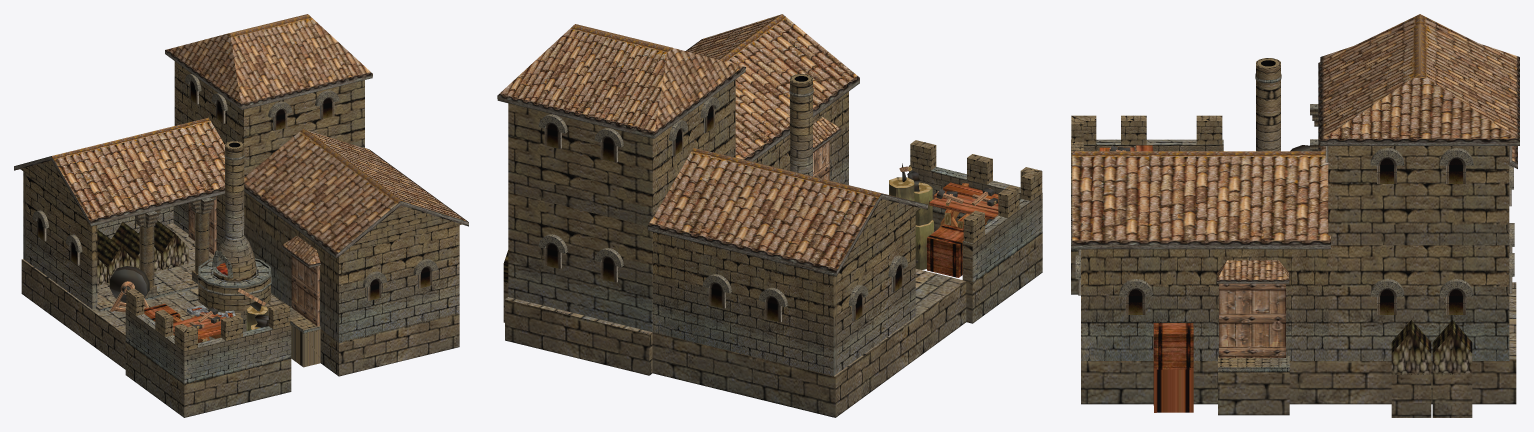
Rendered from forge.dae.
3 renders of one model, left to right at view 1: azimuth 30°, elevation 25°; view 2: azimuth 150°, elevation 25°; view 3: azimuth 270°, elevation 25°, orthographic. The views are drawn at different scales.
Parts seen in each view (by area): view 1: forge; view 2: forge; view 3: forge.
Part boxes in pixels (x1,y1,x2,y2): forge: (14, 14, 468, 417); forge: (497, 14, 1042, 417); forge: (1071, 14, 1519, 417).
Bounding box in the file's own units: 22.02 × 22.09 × 17.59.
